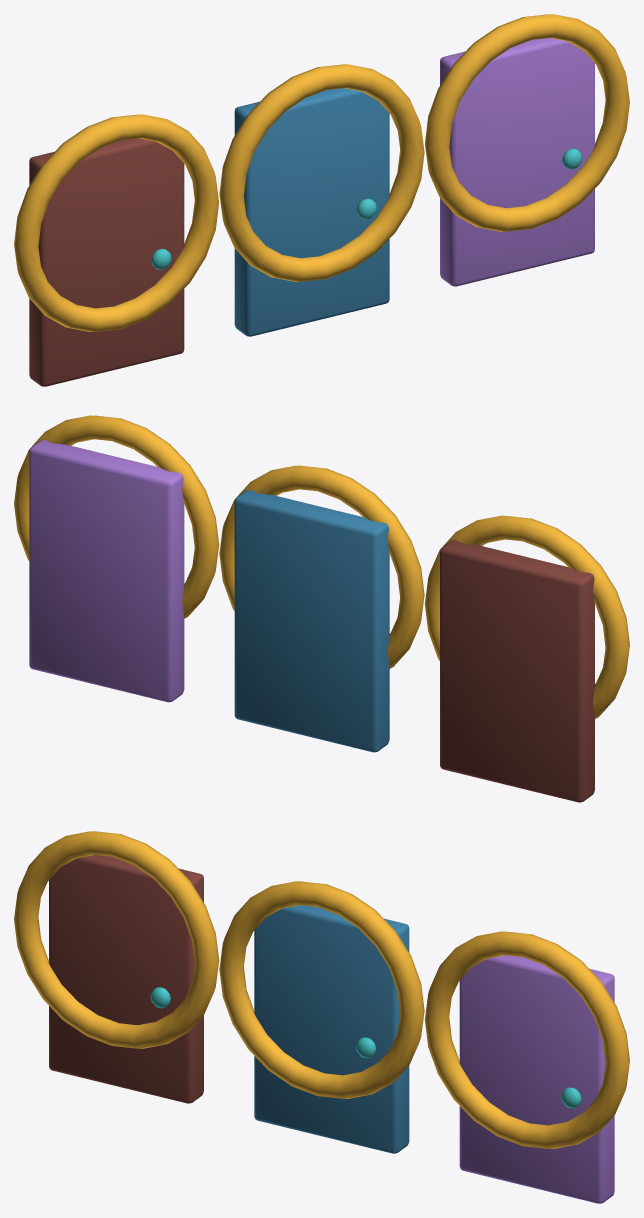
The model's file is r027_castle_doors_doors.glb.
3 views of the same model, one above another, from view 1: azimuth 30°, elevation 25°; view 2: azimuth 150°, elevation 25°; view 3: azimuth 330°, elevation 25° (orthographic).
Parts seen in each view (by area): view 1: r027_castle_doors_doors.001; view 2: r027_castle_doors_doors.001; view 3: r027_castle_doors_doors.001.
Part boxes in pixels (bbox=[...]): r027_castle_doors_doors.001: bbox=[14, 14, 629, 386]; r027_castle_doors_doors.001: bbox=[14, 415, 629, 802]; r027_castle_doors_doors.001: bbox=[14, 831, 629, 1203].
Size of the model in its own units: 8.96 by 3.58 by 0.6.
